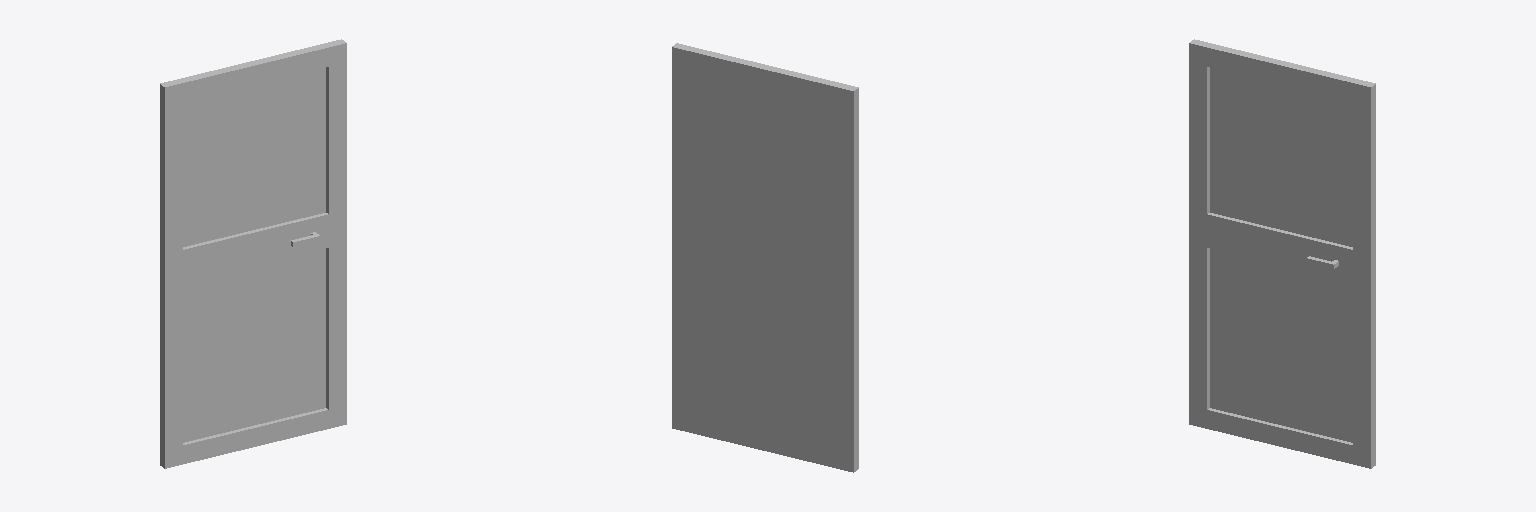
Rendered from door.obj.
3 views of the same model, side by side, from view 1: azimuth 30°, elevation 25°; view 2: azimuth 150°, elevation 25°; view 3: azimuth 330°, elevation 25° (orthographic).
Visible parts, largest first — view 1: door; view 2: door; view 3: door.
Part boxes in pixels (bbox=[...]): door: bbox=[160, 39, 346, 468]; door: bbox=[672, 43, 858, 472]; door: bbox=[1189, 39, 1375, 468].
Bounding box in the file's own units: 40 × 80 × 4.